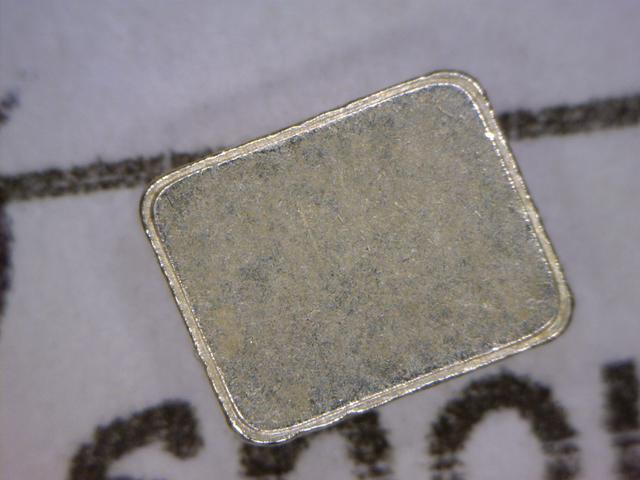nok: (133, 65, 588, 448)
